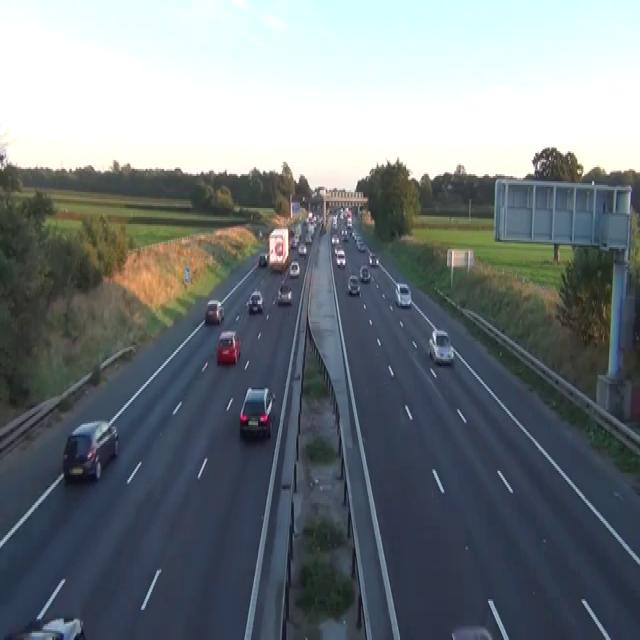Car: (3, 578, 86, 638), (62, 419, 118, 482), (239, 386, 276, 439), (3, 615, 85, 638), (428, 329, 454, 364), (216, 330, 240, 364), (451, 624, 493, 638), (205, 298, 224, 324), (394, 282, 411, 308), (247, 290, 263, 313), (277, 283, 292, 304), (347, 274, 360, 295), (359, 263, 370, 281), (335, 249, 346, 267), (289, 260, 300, 276), (368, 252, 379, 266), (258, 252, 267, 266), (297, 242, 306, 256), (357, 240, 365, 251), (307, 224, 315, 235), (331, 235, 339, 245), (290, 237, 298, 247), (304, 233, 312, 243), (340, 229, 347, 240), (331, 217, 337, 229), (334, 244, 341, 254), (354, 233, 361, 243), (320, 224, 326, 233), (307, 210, 312, 220), (351, 230, 356, 238), (258, 230, 262, 238)
Truck: (268, 228, 289, 270)
